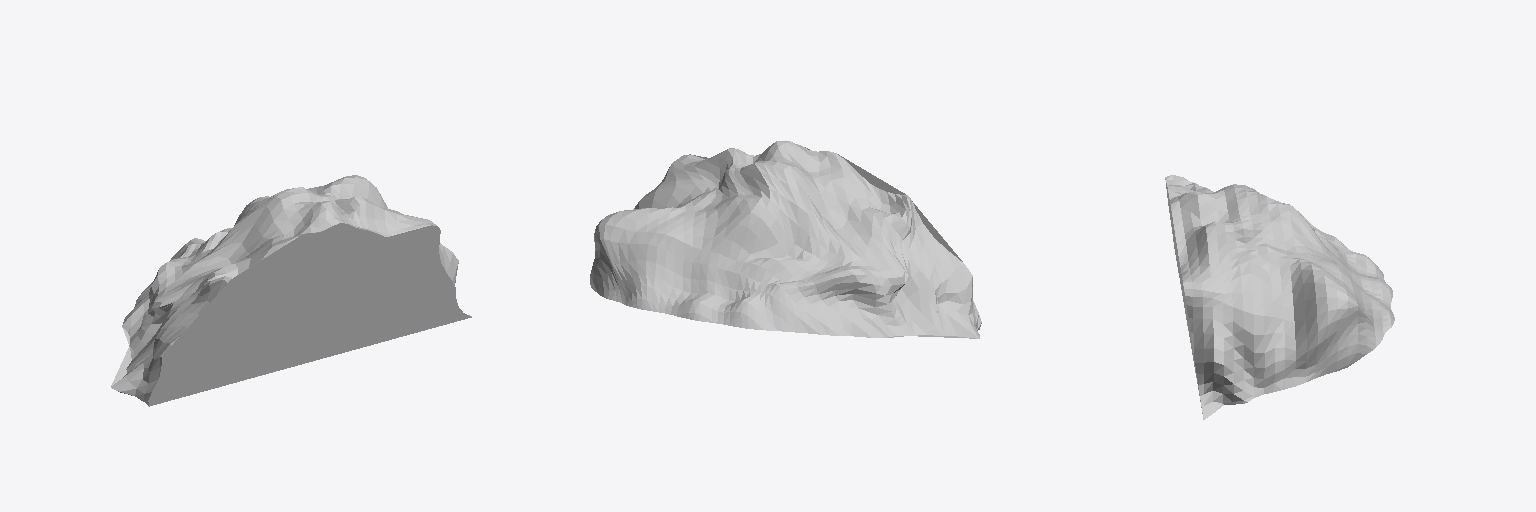
Rendered from Asteroid2fifth1.obj.
3 renders of one model, left to right at view 1: azimuth 30°, elevation 25°; view 2: azimuth 150°, elevation 25°; view 3: azimuth 270°, elevation 25°, orthographic.
Visible parts, largest first — view 1: asteroid2; view 2: asteroid2; view 3: asteroid2.
Part boxes in pixels (bbox=[...]): asteroid2: bbox=[111, 175, 471, 406]; asteroid2: bbox=[590, 141, 981, 338]; asteroid2: bbox=[1165, 175, 1394, 419].
Size of the model in its own units: 2.42 by 0.9963 by 1.35.